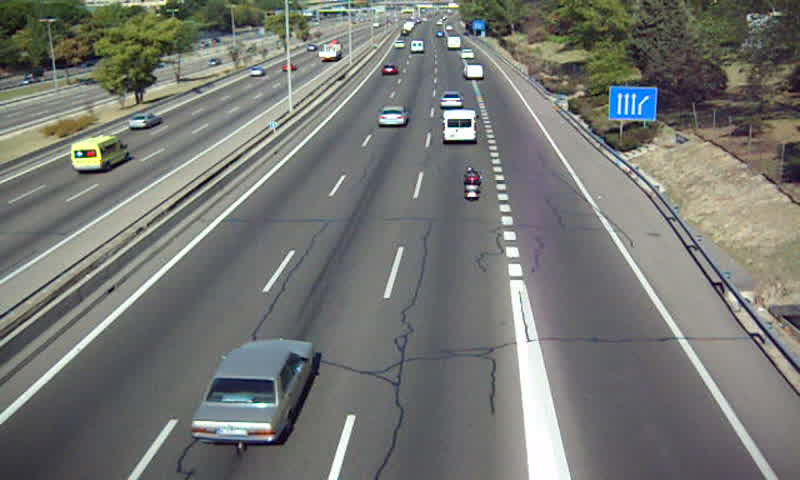car: (192, 339, 315, 442), (377, 106, 410, 128), (438, 91, 463, 109), (380, 65, 396, 78)
motorcycle: (461, 166, 484, 202)
van: (441, 110, 476, 142), (462, 65, 485, 81)
